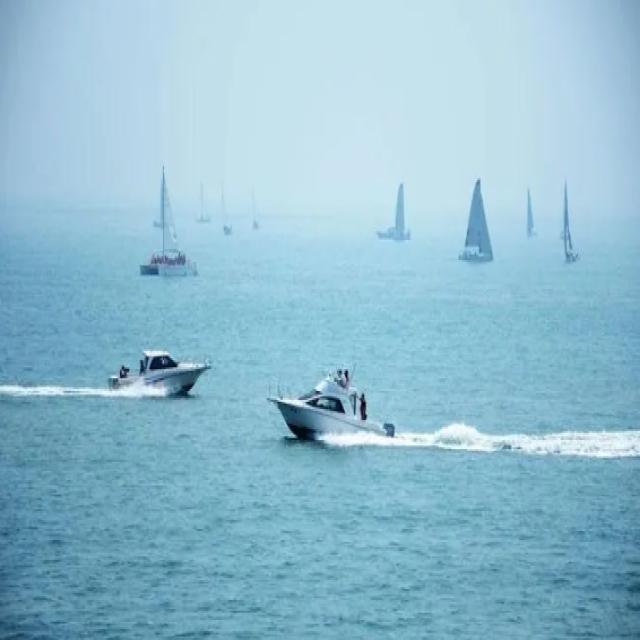houseboat: (268, 365, 397, 449), (107, 337, 213, 405)
sailboat: (137, 164, 200, 278), (458, 177, 498, 265), (374, 180, 416, 246), (558, 177, 580, 268), (245, 180, 263, 237), (521, 187, 538, 240), (220, 176, 233, 237), (197, 178, 209, 229)
